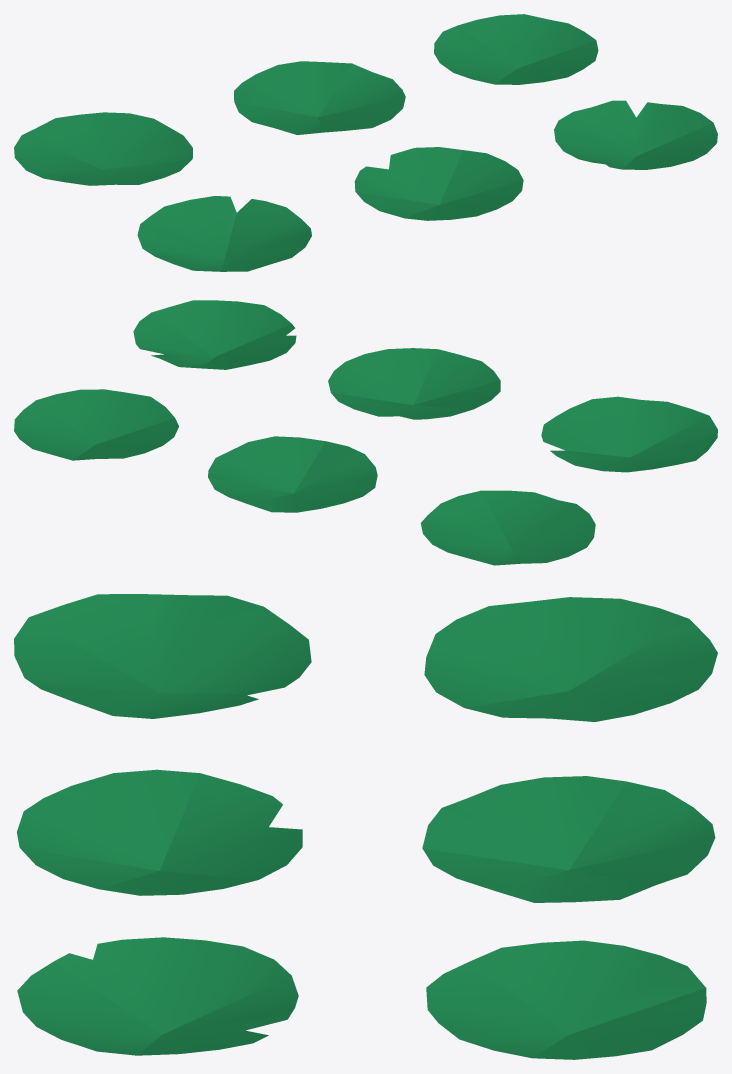
Rendered from plant_mushroom_leaves_ABC.fbx.
3 views of the same model, one above another, from view 1: azimuth 30°, elevation 25°; view 2: azimuth 150°, elevation 25°; view 3: azimuth 270°, elevation 25° (orthographic). The views are drawn at different scales.
Visible parts, largest first — view 1: plant_mushroom_leaf_A, plant_mushroom_leaf_A_chip, plant_mushroom_leaf_B, plant_mushroom_leaf_B_chip, plant_mushroom_leaf_C, plant_mushroom_leaf_C_chip; view 2: plant_mushroom_leaf_A_chip, plant_mushroom_leaf_A, plant_mushroom_leaf_B, plant_mushroom_leaf_B_chip, plant_mushroom_leaf_C, plant_mushroom_leaf_C_chip; view 3: plant_mushroom_leaf_A_chip, plant_mushroom_leaf_A, plant_mushroom_leaf_B, plant_mushroom_leaf_B_chip, plant_mushroom_leaf_C, plant_mushroom_leaf_C_chip.
Part boxes in pixels (x1,y1,x2,y2): plant_mushroom_leaf_A: (14,112,192,185); plant_mushroom_leaf_A_chip: (137,196,311,271); plant_mushroom_leaf_B: (234,61,405,134); plant_mushroom_leaf_B_chip: (354,147,523,220); plant_mushroom_leaf_C: (434,14,598,84); plant_mushroom_leaf_C_chip: (554,100,717,169); plant_mushroom_leaf_A_chip: (541,396,717,472); plant_mushroom_leaf_A: (420,490,595,565); plant_mushroom_leaf_B: (208,436,377,512); plant_mushroom_leaf_B_chip: (328,348,500,419); plant_mushroom_leaf_C: (14,389,178,460); plant_mushroom_leaf_C_chip: (133,300,296,369); plant_mushroom_leaf_A_chip: (14,594,311,718); plant_mushroom_leaf_A: (424,597,717,721); plant_mushroom_leaf_B: (422,776,715,902); plant_mushroom_leaf_B_chip: (17,769,302,895); plant_mushroom_leaf_C: (426,940,706,1059); plant_mushroom_leaf_C_chip: (17,937,298,1055).
Size of the model in its own units: 112 by 4.73 by 71.65.
